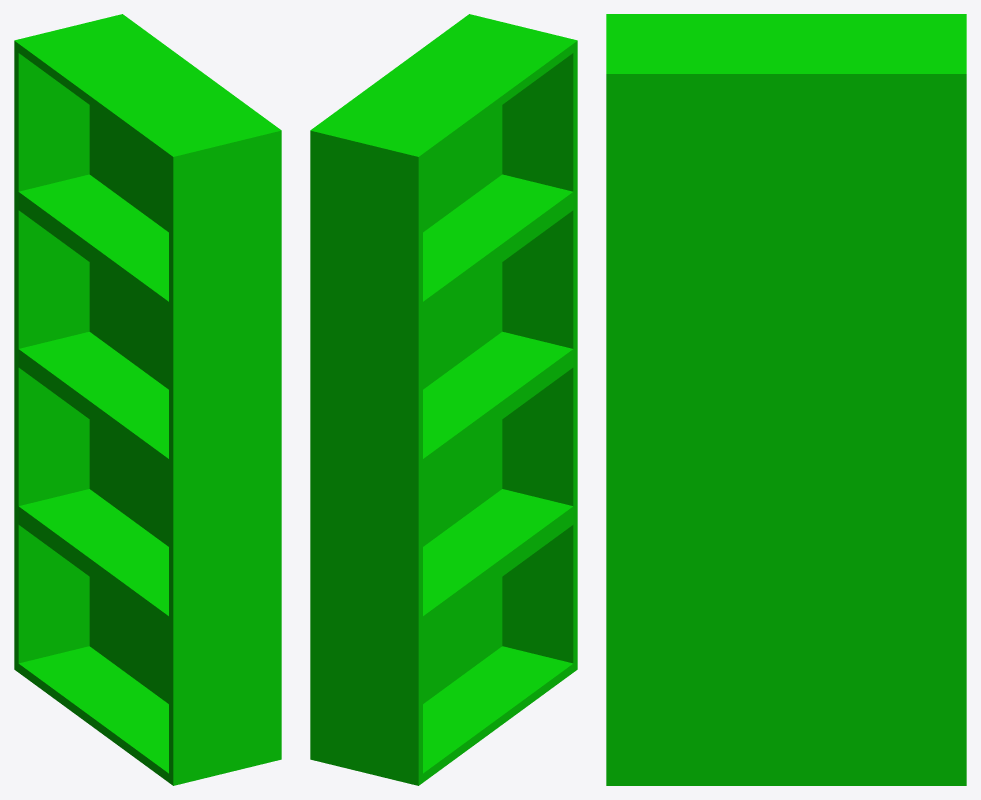
The model's file is Big_Etagere2.fbx.
3 views of the same model, side by side, from view 1: azimuth 30°, elevation 25°; view 2: azimuth 150°, elevation 25°; view 3: azimuth 270°, elevation 25° (orthographic). The views are drawn at different scales.
Parts seen in each view (by area): view 1: pCube181; view 2: pCube181; view 3: pCube181.
Boxes of the visible parts, x1=… form: pCube181: x1=14, y1=14, x2=281, y2=785; pCube181: x1=310, y1=14, x2=577, y2=785; pCube181: x1=606, y1=14, x2=966, y2=785.
Size of the model in its own units: 60.39 by 335 by 154.
